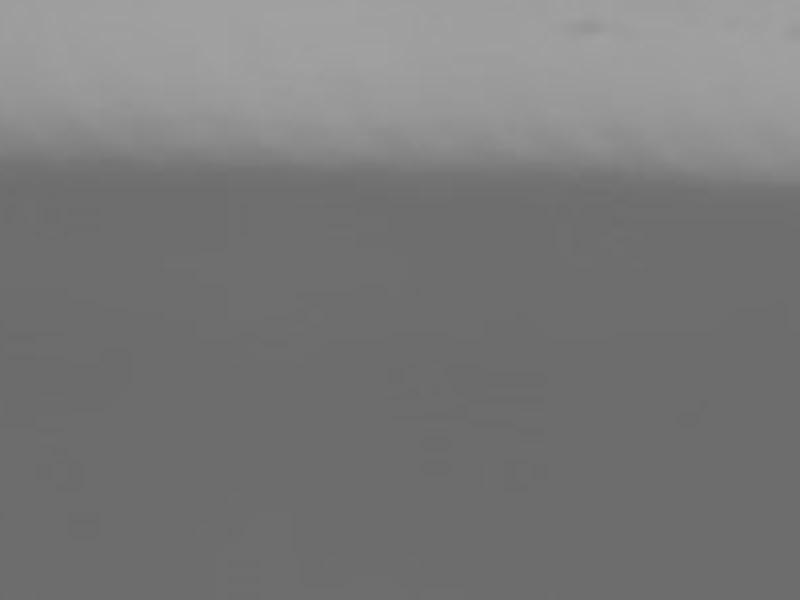defect: (567, 20, 604, 42)
